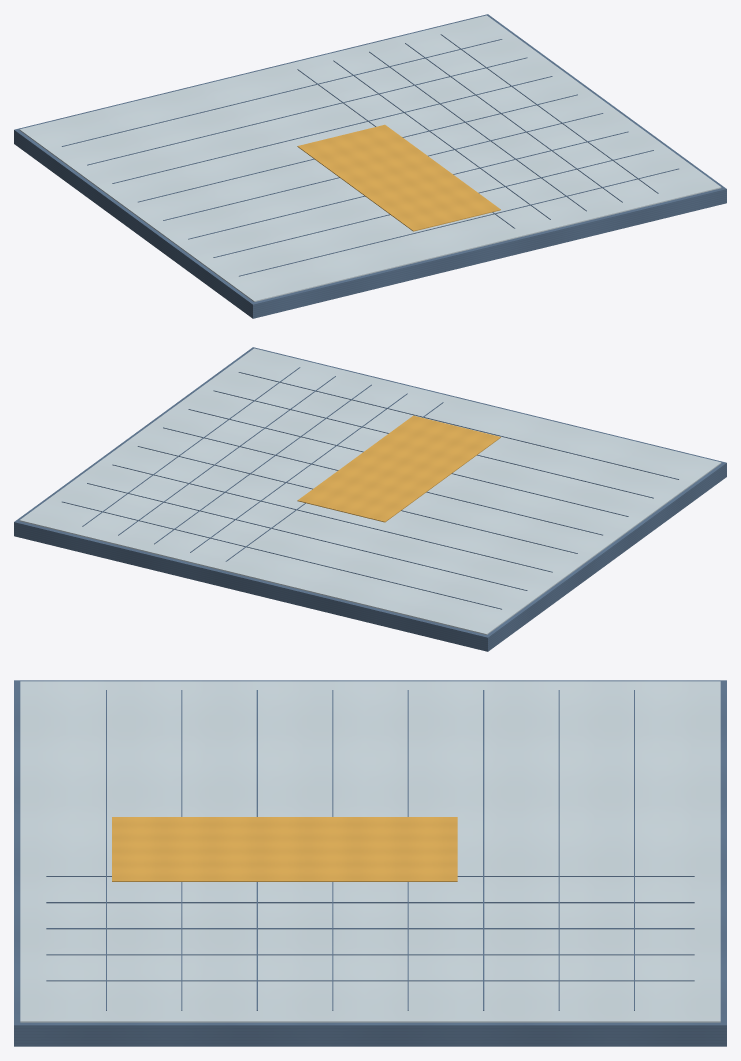
The model's file is atlas100-s054-a07.lod2.glb.
The picture shows the model from 3 angles, top to bottom: view 1: azimuth 30°, elevation 25°; view 2: azimuth 150°, elevation 25°; view 3: azimuth 270°, elevation 25°; orthographic projection. The views are drawn at different scales.
Visible parts, largest first — view 1: atlas100-s054-a07:part-001, atlas100-s054-a07:part-000, atlas100-s054-a07:part-021, atlas100-s054-a07:part-014, atlas100-s054-a07:part-020, atlas100-s054-a07:part-015, atlas100-s054-a07:part-013, atlas100-s054-a07:part-018, atlas100-s054-a07:part-019, atlas100-s054-a07:part-017, atlas100-s054-a07:part-016; view 2: atlas100-s054-a07:part-001, atlas100-s054-a07:part-000, atlas100-s054-a07:part-021, atlas100-s054-a07:part-015, atlas100-s054-a07:part-013, atlas100-s054-a07:part-014, atlas100-s054-a07:part-020, atlas100-s054-a07:part-016, atlas100-s054-a07:part-017, atlas100-s054-a07:part-018, atlas100-s054-a07:part-019; view 3: atlas100-s054-a07:part-001, atlas100-s054-a07:part-000, atlas100-s054-a07:part-021, atlas100-s054-a07:part-009, atlas100-s054-a07:part-010, atlas100-s054-a07:part-011, atlas100-s054-a07:part-012, atlas100-s054-a07:part-014, atlas100-s054-a07:part-015.
Part boxes in pixels (x1=…): atlas100-s054-a07:part-001: x1=19, y1=15, x2=721, y2=301; atlas100-s054-a07:part-000: x1=14, y1=14, x2=726, y2=318; atlas100-s054-a07:part-021: x1=297, y1=124, x2=500, y2=231; atlas100-s054-a07:part-014: x1=87, y1=57, x2=527, y2=165; atlas100-s054-a07:part-020: x1=239, y1=168, x2=678, y2=276; atlas100-s054-a07:part-015: x1=112, y1=76, x2=552, y2=183; atlas100-s054-a07:part-013: x1=62, y1=39, x2=502, y2=146; atlas100-s054-a07:part-018: x1=188, y1=131, x2=628, y2=239; atlas100-s054-a07:part-019: x1=213, y1=150, x2=653, y2=257; atlas100-s054-a07:part-017: x1=163, y1=113, x2=603, y2=220; atlas100-s054-a07:part-016: x1=138, y1=94, x2=577, y2=202; atlas100-s054-a07:part-001: x1=19, y1=348, x2=721, y2=634; atlas100-s054-a07:part-000: x1=14, y1=347, x2=726, y2=651; atlas100-s054-a07:part-021: x1=297, y1=415, x2=500, y2=522; atlas100-s054-a07:part-015: x1=112, y1=464, x2=552, y2=572; atlas100-s054-a07:part-013: x1=62, y1=501, x2=501, y2=609; atlas100-s054-a07:part-014: x1=87, y1=483, x2=527, y2=590; atlas100-s054-a07:part-020: x1=238, y1=372, x2=678, y2=479; atlas100-s054-a07:part-016: x1=137, y1=446, x2=577, y2=553; atlas100-s054-a07:part-017: x1=163, y1=427, x2=602, y2=535; atlas100-s054-a07:part-018: x1=188, y1=409, x2=628, y2=516; atlas100-s054-a07:part-019: x1=213, y1=390, x2=653, y2=498; atlas100-s054-a07:part-001: x1=20, y1=681, x2=720, y2=1022; atlas100-s054-a07:part-000: x1=14, y1=680, x2=726, y2=1046; atlas100-s054-a07:part-021: x1=112, y1=817, x2=457, y2=881; atlas100-s054-a07:part-009: x1=46, y1=902, x2=694, y2=903; atlas100-s054-a07:part-010: x1=46, y1=928, x2=694, y2=929; atlas100-s054-a07:part-011: x1=46, y1=954, x2=694, y2=955; atlas100-s054-a07:part-012: x1=46, y1=980, x2=694, y2=981; atlas100-s054-a07:part-014: x1=558, y1=690, x2=559, y2=1010; atlas100-s054-a07:part-015: x1=483, y1=690, x2=484, y2=1010.
Bounding box in the file's own units: 11.9 × 0.404 × 10.4.
3 materials, 3 textured.
